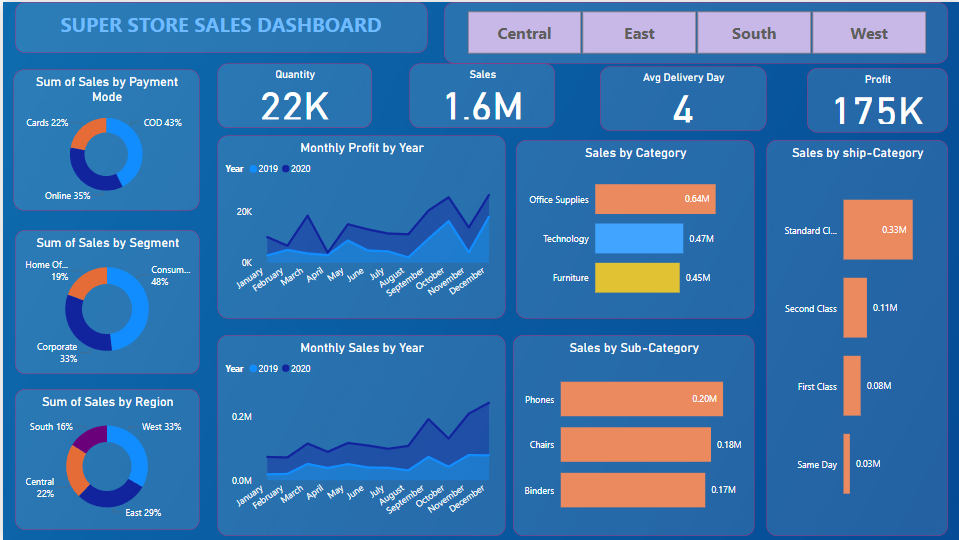

The dashboard page shown, as its layout file describes it:
{"tool":"powerbi","page":{"name":"Dashboard","canvas":[1280,720],"ordinal":0},"visuals":[{"type":"clusteredBarChart","title":"Sales by Category","fields":{"Category":["SuperStore_Sales_Dataset.Category"],"Y":["Sum(SuperStore_Sales_Dataset.Sales)"]},"box":[684,184,318,238],"z":0},{"type":"clusteredBarChart","title":"Sales by Sub-Category","fields":{"Category":["SuperStore_Sales_Dataset.Sub-Category"],"Y":["Sum(SuperStore_Sales_Dataset.Sales)"]},"box":[680,444,322,268],"z":1000},{"type":"clusteredBarChart","title":"Sales by ship-Category","fields":{"Category":["SuperStore_Sales_Dataset.Ship Mode"],"Y":["Sum(SuperStore_Sales_Dataset.Sales)"]},"box":[1018,184,242,528],"z":2000},{"type":"stackedAreaChart","title":"Monthly Sales by Year","fields":{"Y":["Sum(SuperStore_Sales_Dataset.Sales)"],"Category":["SuperStore_Sales_Dataset.Order Date.Variation.Date Hierarchy.Month"],"Series":["SuperStore_Sales_Dataset.Order Date.Variation.Date Hierarchy.Year"]},"box":[286,444,384,268],"z":3000},{"type":"stackedAreaChart","title":"Monthly Profit by Year","fields":{"Category":["SuperStore_Sales_Dataset.Order Date.Variation.Date Hierarchy.Month"],"Series":["SuperStore_Sales_Dataset.Order Date.Variation.Date Hierarchy.Year"],"Y":["Sum(SuperStore_Sales_Dataset.Profit)"]},"box":[286,178,384,244],"z":4000},{"type":"donutChart","fields":{"Category":["SuperStore_Sales_Dataset.Segment"],"Y":["Sum(SuperStore_Sales_Dataset.Sales)"]},"box":[16,304,246,192],"z":6000},{"type":"donutChart","fields":{"Category":["SuperStore_Sales_Dataset.Payment Mode"],"Y":["Sum(SuperStore_Sales_Dataset.Sales)"]},"box":[14,90,248,188],"z":7000},{"type":"slicer","fields":{"Values":["SuperStore_Sales_Dataset.Region"]},"box":[588,0,672,82],"z":7001},{"type":"textbox","box":[16,0,550,68],"z":7003},{"type":"card","title":"Sales","fields":{"Values":["Sum(SuperStore_Sales_Dataset.Sales)"]},"box":[542,82,194,86],"z":7004},{"type":"card","title":"Quantity","fields":{"Values":["Sum(SuperStore_Sales_Dataset.Quantity)"]},"box":[286,82,206,86],"z":7005},{"type":"card","title":"Profit","fields":{"Values":["Sum(SuperStore_Sales_Dataset.Profit)"]},"box":[1072,88,188,86],"z":7006},{"type":"card","title":"Avg Delivery Day","fields":{"Values":["Avg(SuperStore_Sales_Dataset.Avgdelivery)"]},"box":[796,86,222,86],"z":7007},{"type":"donutChart","fields":{"Category":["SuperStore_Sales_Dataset.Region"],"Y":["Sum(SuperStore_Sales_Dataset.Sales)"]},"box":[16,516,246,188],"z":7008}]}

Visuals, with their boxes in screenshot pixels (x1, y1, x2, y2), scaled from the page's 1280x720 canvas onto the 959x540 screenshot:
"Sales by Category" clusteredBarChart: rect(512, 138, 751, 316)
"Sales by Sub-Category" clusteredBarChart: rect(509, 333, 751, 534)
"Sales by ship-Category" clusteredBarChart: rect(763, 138, 944, 534)
"Monthly Sales by Year" stackedAreaChart: rect(214, 333, 502, 534)
"Monthly Profit by Year" stackedAreaChart: rect(214, 134, 502, 316)
donutChart - SuperStore_Sales_Dataset.Segment x Sum(SuperStore_Sales_Dataset.Sales): rect(12, 228, 196, 372)
donutChart - SuperStore_Sales_Dataset.Payment Mode x Sum(SuperStore_Sales_Dataset.Sales): rect(10, 68, 196, 208)
slicer - SuperStore_Sales_Dataset.Region: rect(441, 0, 944, 62)
textbox: rect(12, 0, 424, 51)
"Sales" card: rect(406, 62, 551, 126)
"Quantity" card: rect(214, 62, 369, 126)
"Profit" card: rect(803, 66, 944, 130)
"Avg Delivery Day" card: rect(596, 64, 763, 129)
donutChart - SuperStore_Sales_Dataset.Region x Sum(SuperStore_Sales_Dataset.Sales): rect(12, 387, 196, 528)
